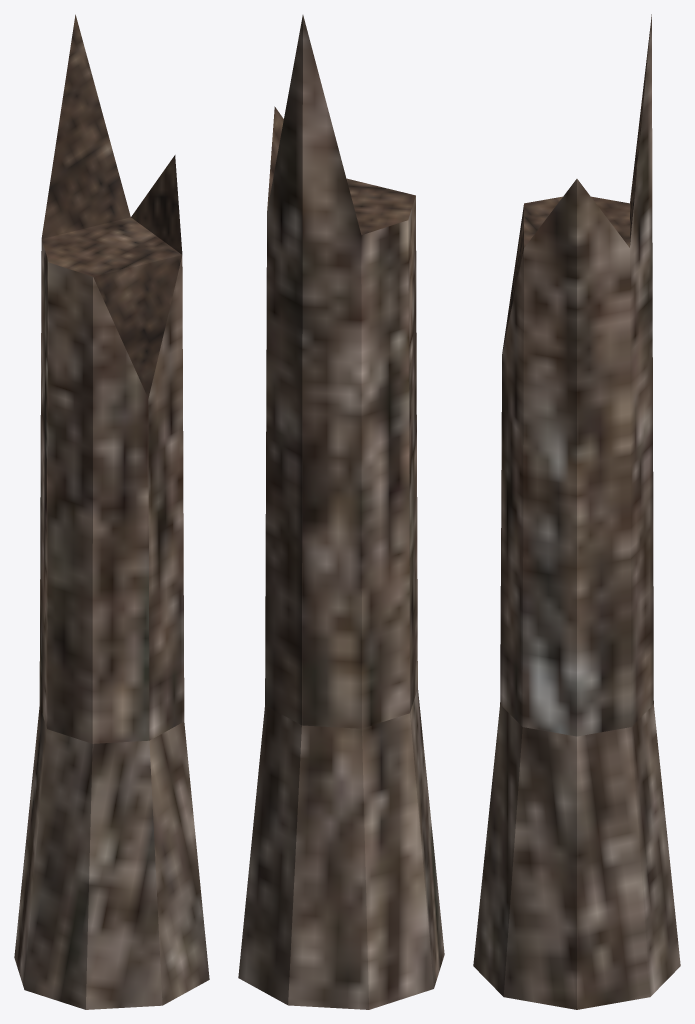
Rendered from Pine_Trunk_Broken.fbx.
The picture shows the model from 3 angles, left to right: view 1: azimuth 30°, elevation 25°; view 2: azimuth 150°, elevation 25°; view 3: azimuth 270°, elevation 25°; orthographic projection. The views are drawn at different scales.
Parts seen in each view (by area): view 1: Tree_Fir_Trunk_Broken; view 2: Tree_Fir_Trunk_Broken; view 3: Tree_Fir_Trunk_Broken.
Boxes of the visible parts, x1,y1,x2,y2 form: Tree_Fir_Trunk_Broken: (14, 14, 209, 1009); Tree_Fir_Trunk_Broken: (238, 15, 444, 1009); Tree_Fir_Trunk_Broken: (473, 14, 680, 1009).
Bounding box in the file's own units: 76.15 × 386 × 76.15.
